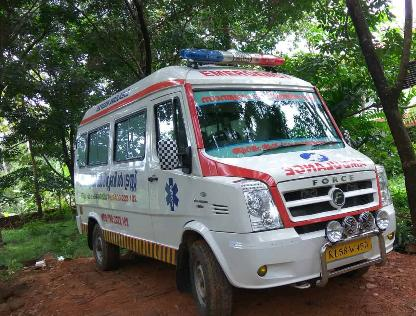priority: (74, 47, 406, 314)
